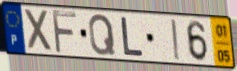6: (185, 19, 209, 63)
F: (50, 8, 79, 55)
I: (169, 18, 182, 62)
L: (119, 15, 145, 58)
Q: (87, 13, 117, 57)
X: (23, 7, 55, 54)
